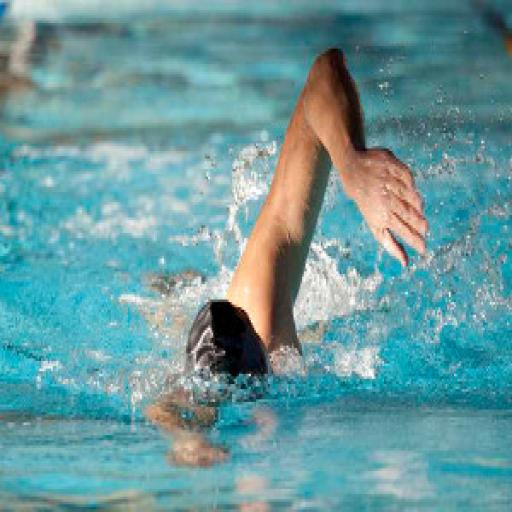swimming: (140, 41, 432, 474)
